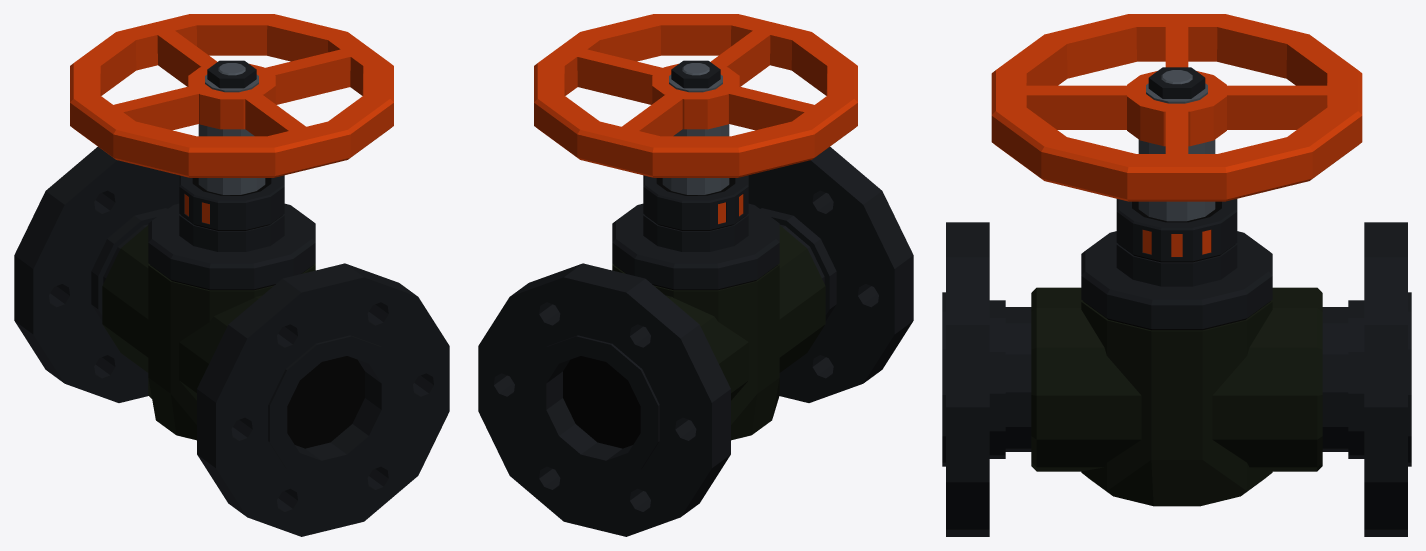
Rendered from SM_Industrial_Valve.obj.
3 renders of one model, left to right at view 1: azimuth 30°, elevation 25°; view 2: azimuth 150°, elevation 25°; view 3: azimuth 270°, elevation 25°, orthographic. The views are drawn at different scales.
Visible parts, largest first — view 1: SM_Industrial_Valve; view 2: SM_Industrial_Valve; view 3: SM_Industrial_Valve.
Boxes of the visible parts, x1,y1,x2,y2 form: SM_Industrial_Valve: (14, 14, 449, 536); SM_Industrial_Valve: (478, 14, 913, 536); SM_Industrial_Valve: (942, 14, 1411, 536).
Size of the model in its own units: 0.3076 by 0.4059 by 0.389.
